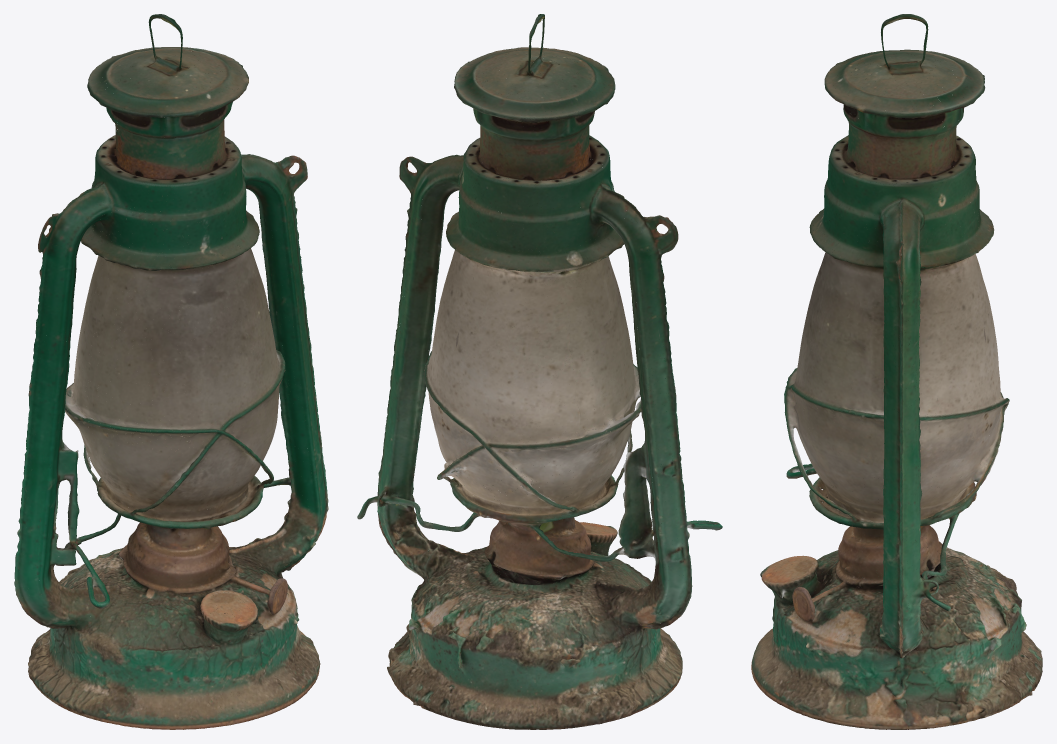
File: oil lamp.glb
3 views of the same model, side by side, from view 1: azimuth 30°, elevation 25°; view 2: azimuth 150°, elevation 25°; view 3: azimuth 270°, elevation 25° (orthographic).
Parts seen in each view (by area): view 1: Object_3, Object_4, Object_2, Object_5, Object_6, Object_7; view 2: Object_2, Object_3, Object_4, Object_5, Object_6, Object_7; view 3: Object_2, Object_4, Object_3, Object_5, Object_6, Object_7.
Boxes of the visible parts, left/top/right/bottom form: Object_3: left=14, top=34, right=324, bottom=727; Object_4: left=21, top=14, right=328, bottom=729; Object_2: left=28, top=47, right=319, bottom=729; Object_5: left=15, top=15, right=328, bottom=718; Object_6: left=14, top=14, right=327, bottom=729; Object_7: left=15, top=25, right=326, bottom=729; Object_2: left=381, top=48, right=687, bottom=729; Object_3: left=381, top=20, right=722, bottom=717; Object_4: left=357, top=14, right=703, bottom=721; Object_5: left=360, top=14, right=721, bottom=725; Object_6: left=357, top=15, right=721, bottom=729; Object_7: left=358, top=31, right=713, bottom=729; Object_2: left=751, top=55, right=1042, bottom=718; Object_4: left=758, top=14, right=1038, bottom=729; Object_3: left=754, top=18, right=1022, bottom=729; Object_5: left=755, top=14, right=1042, bottom=726; Object_6: left=753, top=14, right=1041, bottom=729; Object_7: left=754, top=18, right=1038, bottom=729.
Bounding box in the file's own units: 0.8965 × 1.78 × 0.7214.
1 material, 1 textured.
